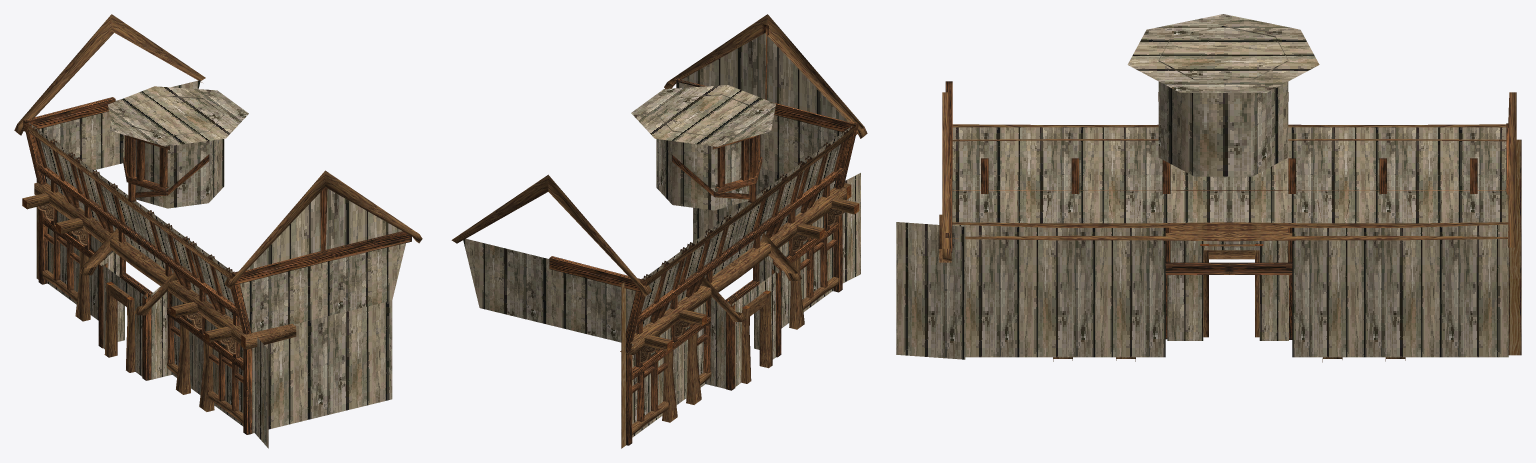
The model's file is LAKETOWN_EXTERIOR_PS_LT_LIBRARY4746__GX.fbx.
3 views of the same model, side by side, from view 1: azimuth 30°, elevation 25°; view 2: azimuth 150°, elevation 25°; view 3: azimuth 270°, elevation 25° (orthographic). The views are drawn at different scales.
Parts seen in each view (by area): view 1: LAKETOWN_EXTERIOR_PS_LT_LIBRARY4746__GX; view 2: LAKETOWN_EXTERIOR_PS_LT_LIBRARY4746__GX; view 3: LAKETOWN_EXTERIOR_PS_LT_LIBRARY4746__GX.
Boxes of the visible parts, box(x1,y1,x2,y2) form: LAKETOWN_EXTERIOR_PS_LT_LIBRARY4746__GX: box(14, 14, 422, 448); LAKETOWN_EXTERIOR_PS_LT_LIBRARY4746__GX: box(451, 14, 867, 448); LAKETOWN_EXTERIOR_PS_LT_LIBRARY4746__GX: box(896, 14, 1521, 362).
Size of the model in its own units: 80186 by 93101 by 155162.
10 materials, 10 textured.
